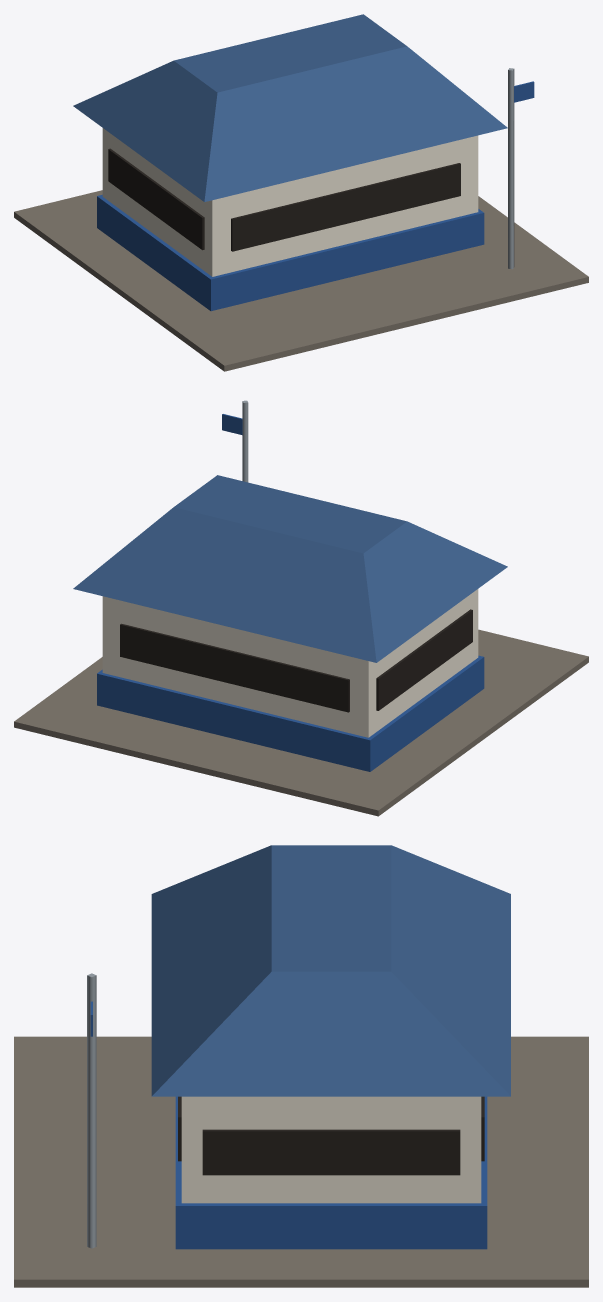
The model's file is building_balai_polis.glb.
The picture shows the model from 3 angles, top to bottom: view 1: azimuth 30°, elevation 25°; view 2: azimuth 150°, elevation 25°; view 3: azimuth 270°, elevation 25°; orthographic projection. The views are drawn at different scales.
Visible parts, largest first — view 1: building_balai_polis; view 2: building_balai_polis; view 3: building_balai_polis.
Boxes of the visible parts, left/top/right/bottom form: building_balai_polis: left=14, top=14, right=588, bottom=371; building_balai_polis: left=14, top=400, right=588, bottom=816; building_balai_polis: left=14, top=845, right=588, bottom=1287.
Bounding box in the file's own units: 0.96 × 0.515 × 0.96.
